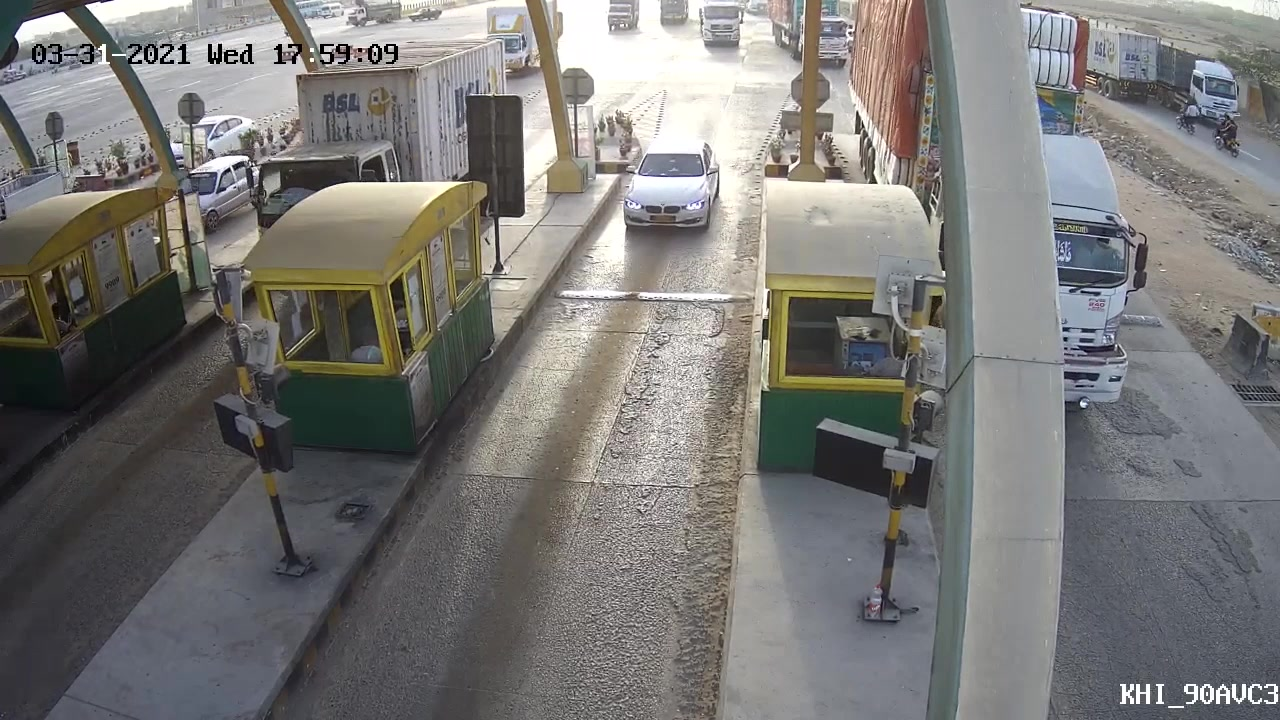F1: (607, 133, 729, 250)
